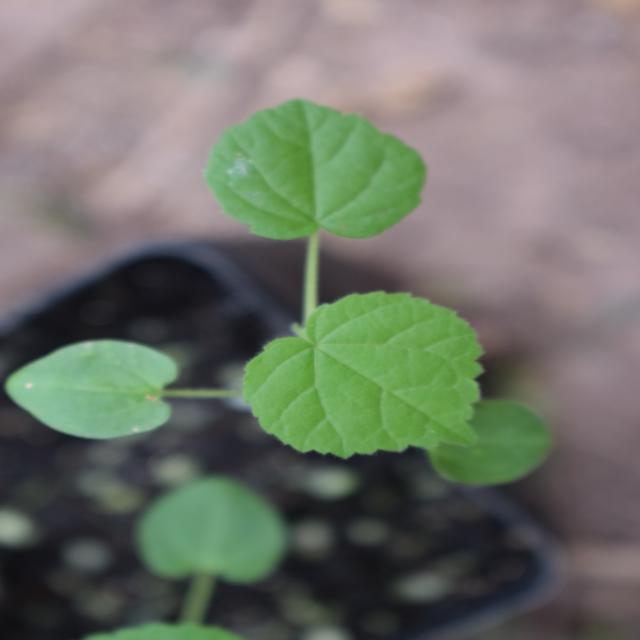abutilon theophrasti: (150, 2, 544, 536)
